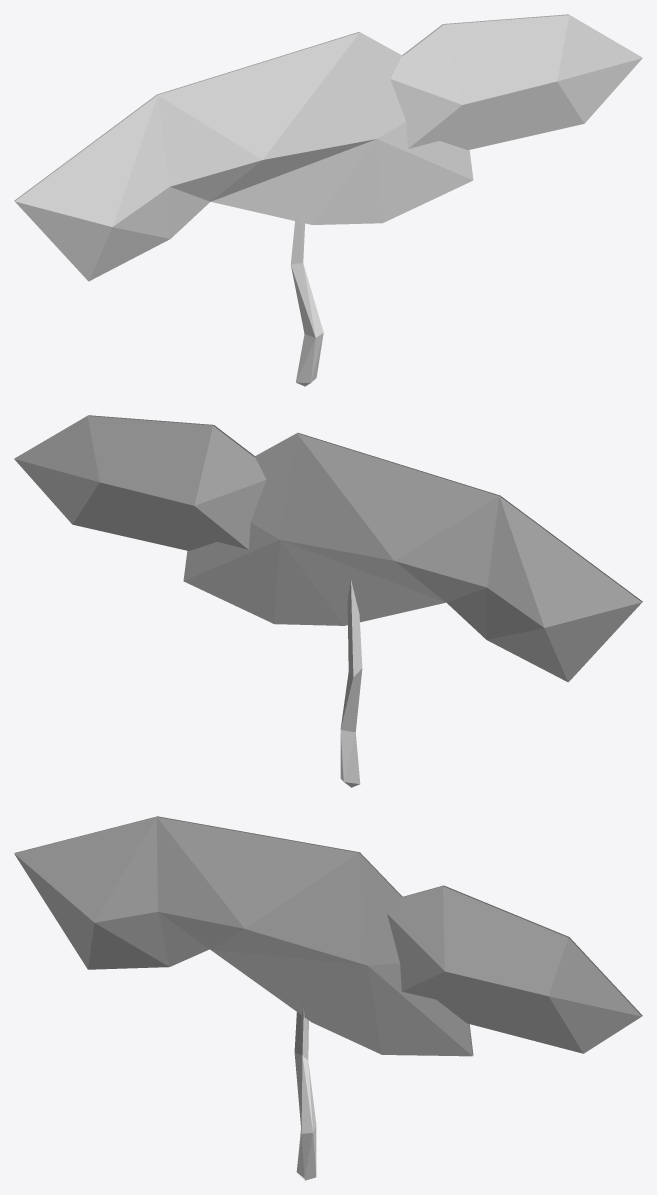
File: SM_Env_Vine_03.glb
3 views of the same model, one above another, from view 1: azimuth 30°, elevation 25°; view 2: azimuth 150°, elevation 25°; view 3: azimuth 330°, elevation 25° (orthographic).
Visible parts, largest first — view 1: SM_Env_Vine_03; view 2: SM_Env_Vine_03; view 3: SM_Env_Vine_03.
Part boxes in pixels (bbox=[...]): SM_Env_Vine_03: bbox=[14, 14, 642, 386]; SM_Env_Vine_03: bbox=[14, 415, 642, 787]; SM_Env_Vine_03: bbox=[14, 816, 642, 1180].
Bounding box in the file's own units: 2.97 × 1.55 × 0.1482.
Materials: 2 (1 with a texture image).
